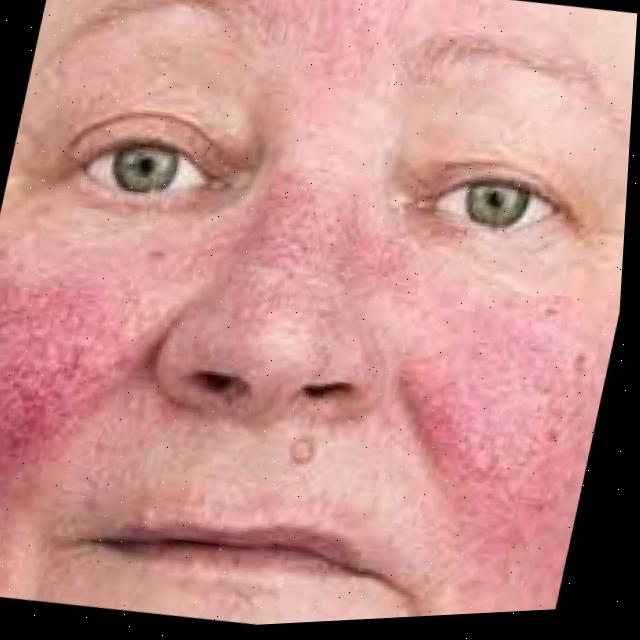Rosacea: (396, 312, 600, 577), (0, 258, 143, 485), (236, 142, 364, 310)
